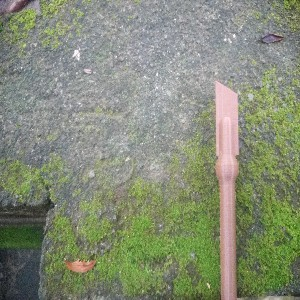cutter: (213, 79, 240, 300)
